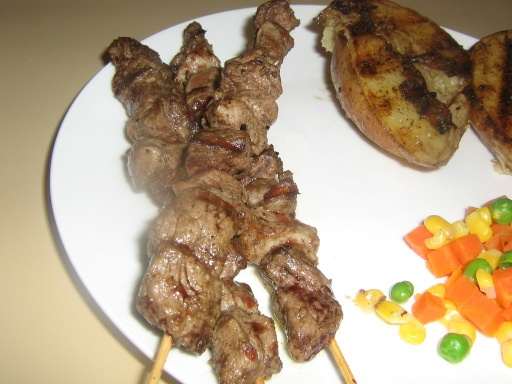background: (81, 0, 274, 230), (126, 103, 409, 220), (160, 0, 409, 105)
